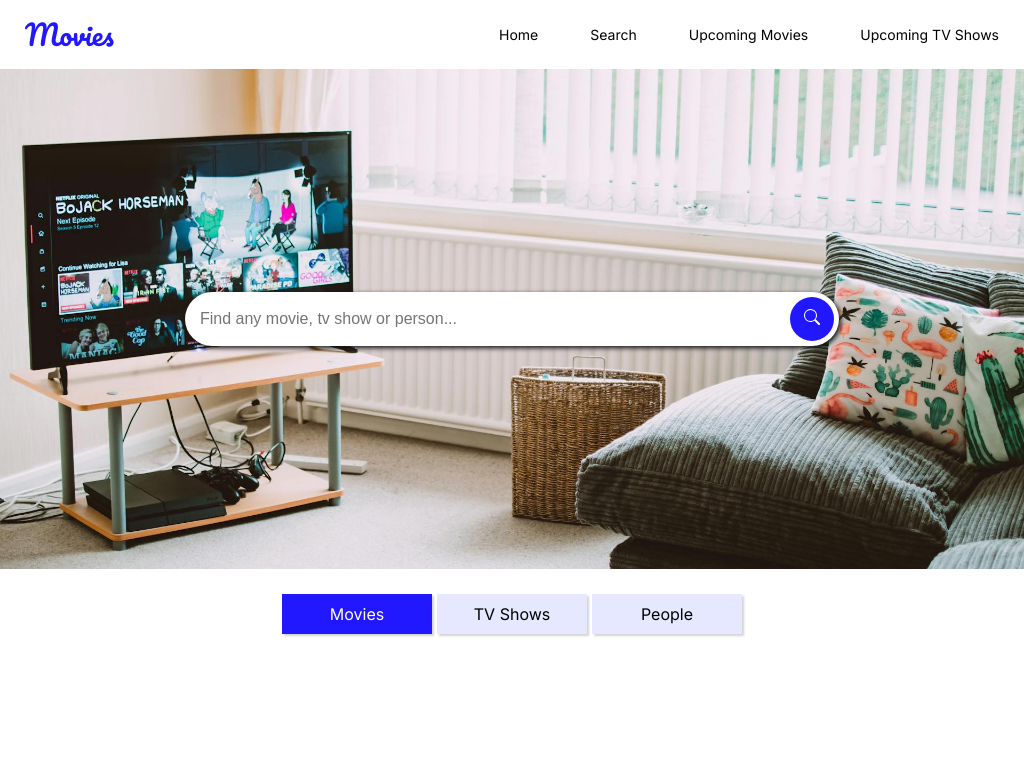
Navigation › should navigate to upcoming movies page
Step 1. Click the link "Upcoming Movies" → (749, 35), box [689,26,808,43]
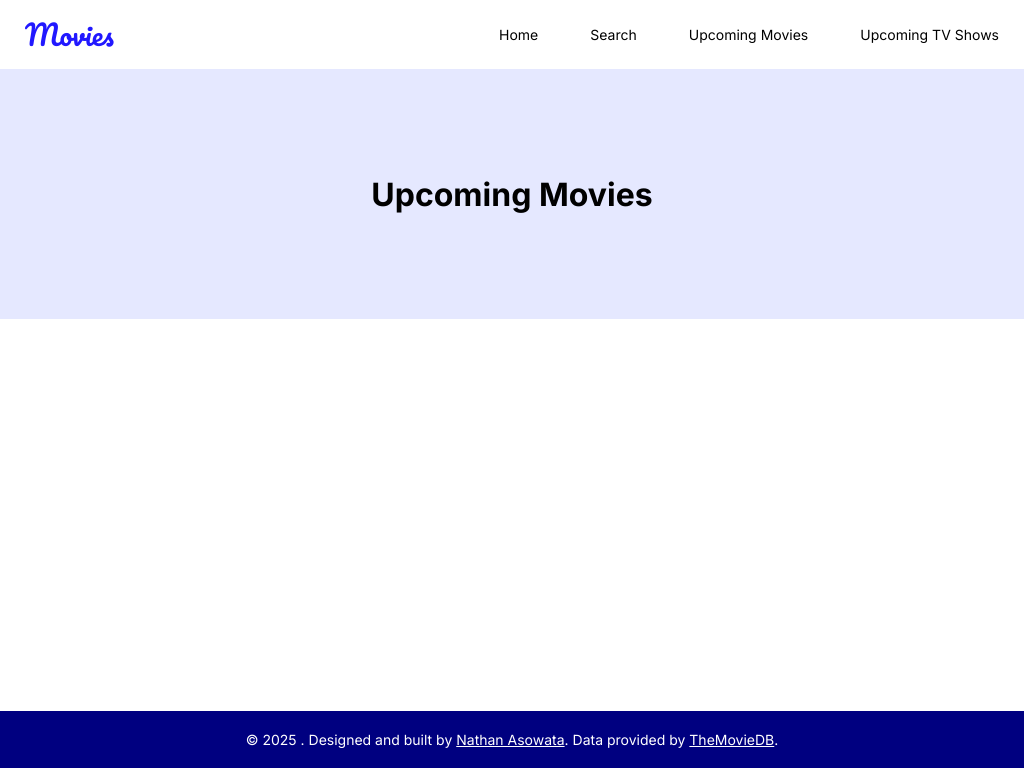
expect the heading "Upcoming Movies" is shown: met, box [371,174,653,214]
